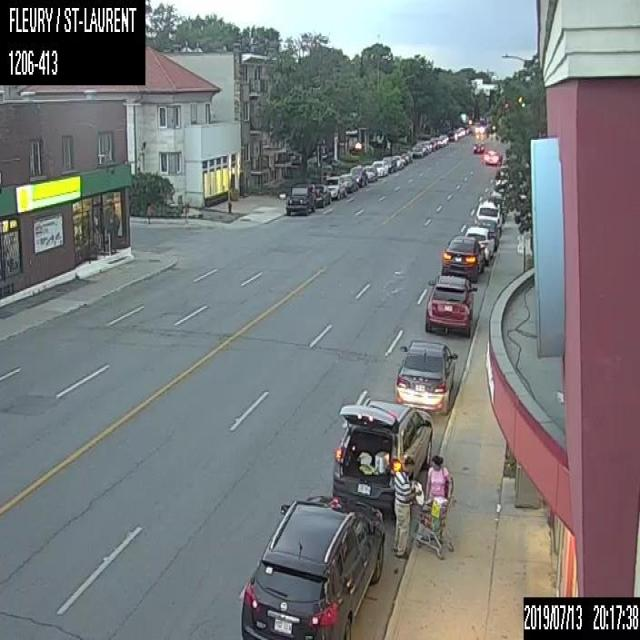pedestrian: (418, 458, 452, 558), (391, 453, 424, 556), (226, 187, 232, 213)
vehicle: (240, 494, 385, 638), (332, 399, 431, 514), (394, 340, 457, 414), (423, 276, 478, 338), (442, 236, 484, 280), (464, 224, 494, 265), (284, 182, 316, 215), (476, 201, 502, 230), (323, 176, 346, 197), (313, 183, 330, 207), (349, 167, 368, 186), (340, 172, 356, 191), (371, 160, 387, 177), (363, 163, 377, 181), (382, 156, 396, 173), (484, 148, 498, 164), (391, 155, 404, 169), (472, 140, 484, 152), (400, 152, 412, 163), (411, 146, 422, 156), (430, 136, 439, 148), (418, 142, 426, 155), (423, 140, 431, 152), (429, 140, 436, 150)
